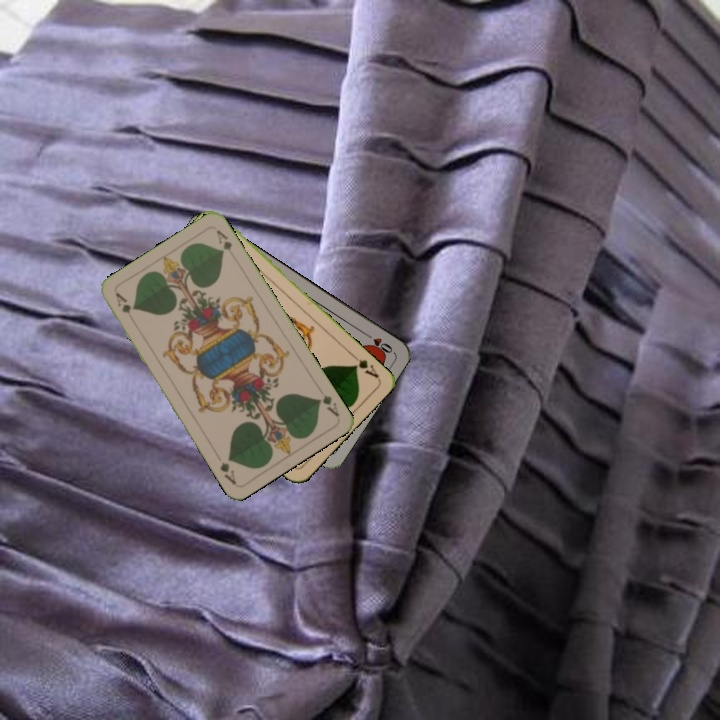GA: (347, 349, 381, 381), (313, 390, 342, 419), (111, 289, 134, 316)
HO: (359, 328, 395, 357)
